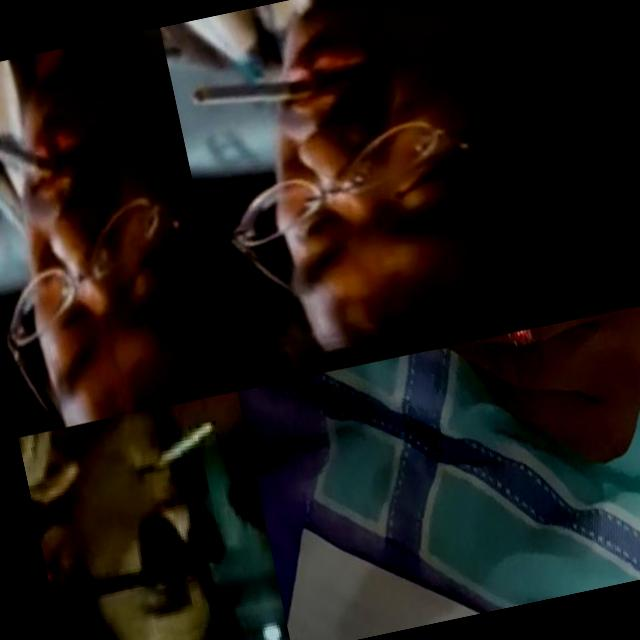cigarette: (188, 60, 331, 126), (0, 112, 66, 199), (145, 418, 224, 475)
